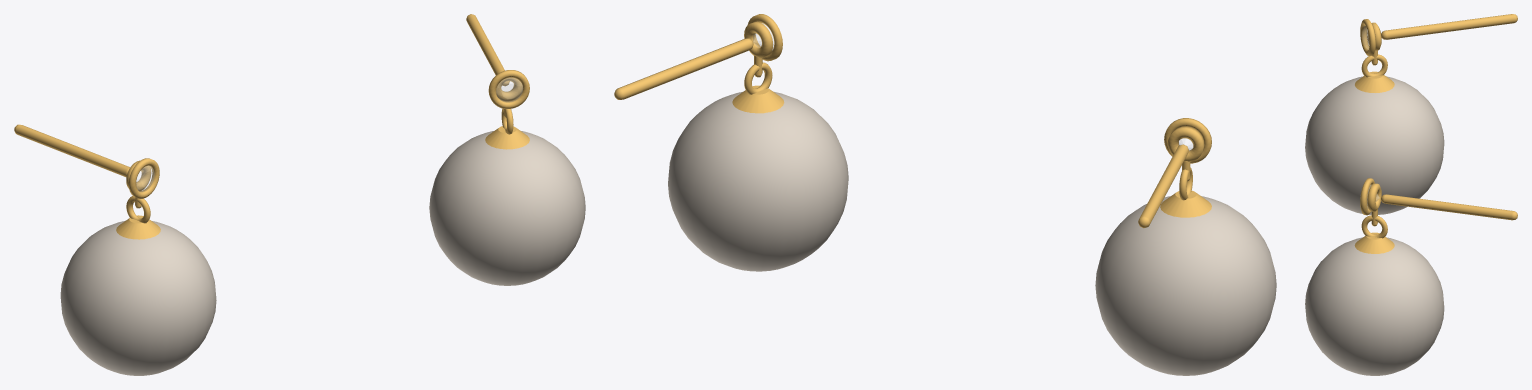
The model's file is pearl-earrings.glb.
The picture shows the model from 3 angles, left to right: view 1: azimuth 30°, elevation 25°; view 2: azimuth 150°, elevation 25°; view 3: azimuth 270°, elevation 25°; orthographic projection. The views are drawn at different scales.
Parts seen in each view (by area): view 1: pearl, metal, diamond; view 2: pearl, metal; view 3: pearl, metal.
Boxes of the visible parts, x1,y1,x2,y2 form: pearl: (60, 131, 585, 375); metal: (14, 14, 529, 239); diamond: (136, 78, 522, 191); pearl: (668, 91, 1276, 375); metal: (614, 14, 1211, 228); pearl: (1305, 76, 1444, 375); metal: (1354, 14, 1517, 253).
Size of the model in its own units: 3.13 by 1.25 by 1.28.
